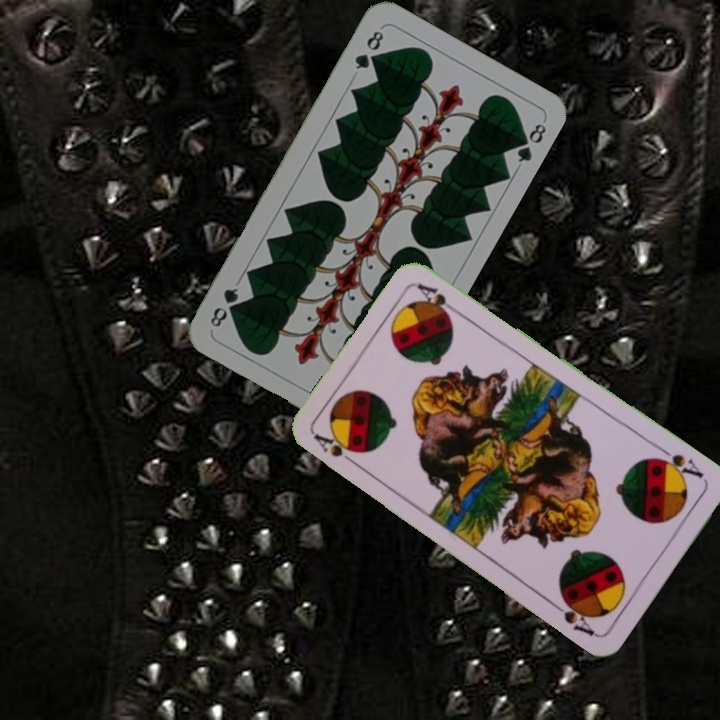G8: (350, 26, 386, 72)
SA: (649, 443, 707, 484), (310, 430, 362, 470)
